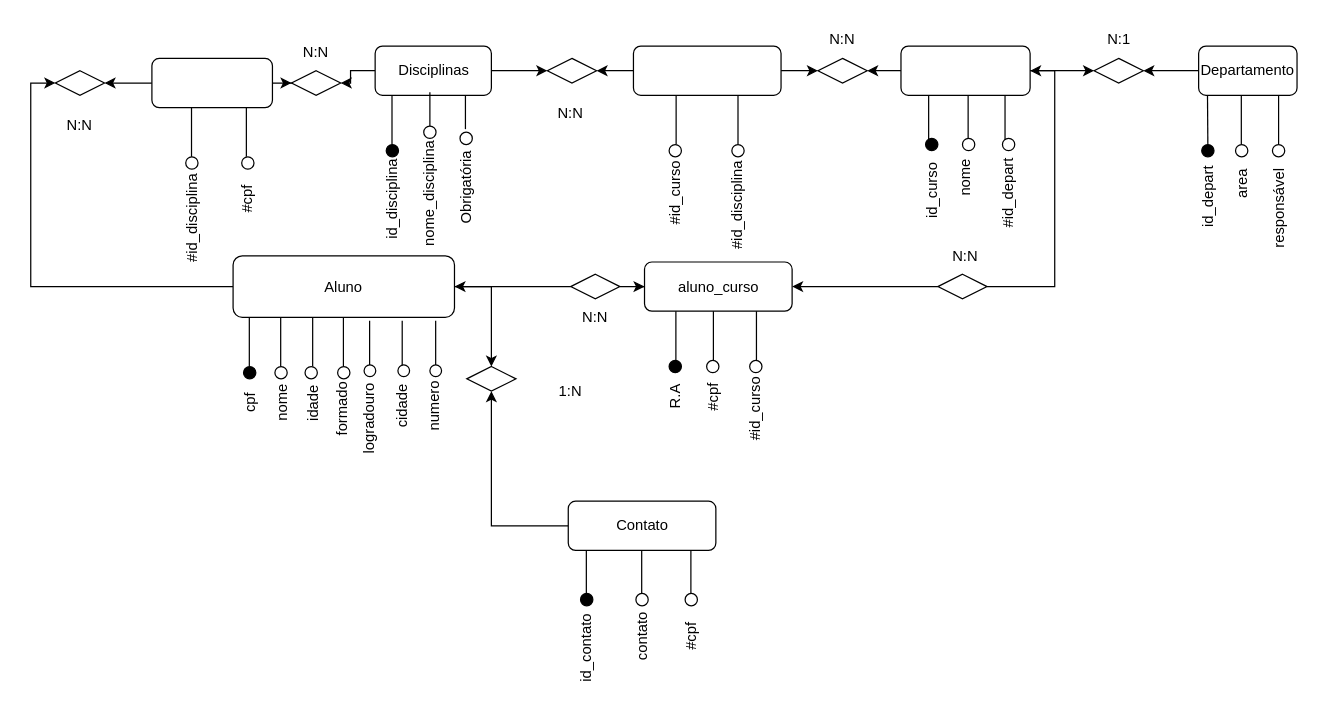
Some shapes in this 1319 by 706 pixel diagram are drawn without their labels. The box of each missing label's shape, as (x1, y1, x2, y2) in pixels:
aluno_disciplina: (151, 57, 272, 108)
Curso: (900, 45, 1030, 95)
disciplina_curso: (632, 45, 781, 95)
